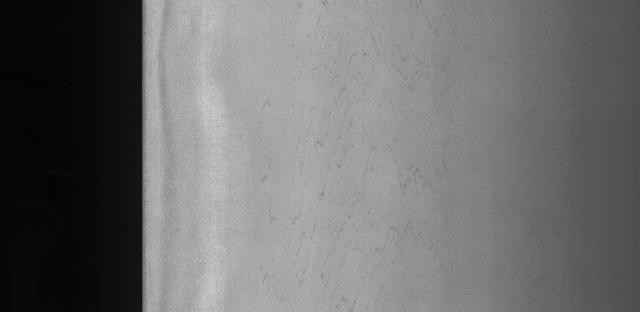silk_spot: (273, 33, 446, 278)
